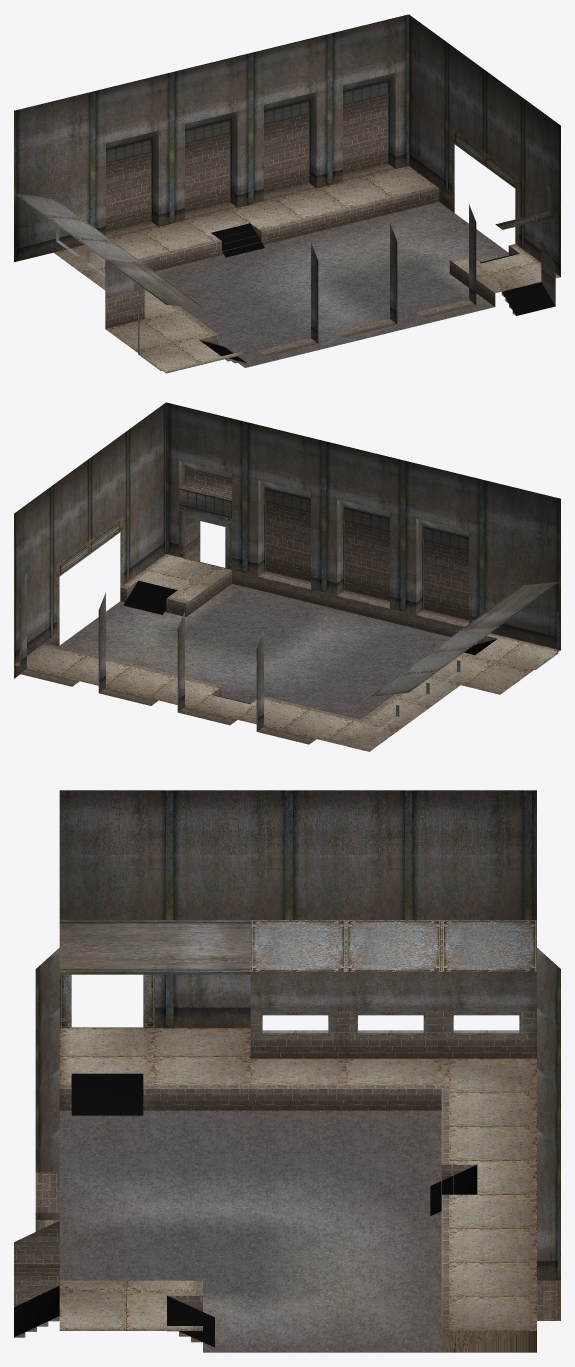
The model's file is M11Z2_SCUDHouse01_F.glb.
3 renders of one model, top to bottom at view 1: azimuth 30°, elevation 25°; view 2: azimuth 150°, elevation 25°; view 3: azimuth 270°, elevation 25°, orthographic. The views are drawn at different scales.
Parts seen in each view (by area): view 1: M11Z2_SCUDHOUSE01_F; view 2: M11Z2_SCUDHOUSE01_F; view 3: M11Z2_SCUDHOUSE01_F.
Boxes of the visible parts, x1=… form: M11Z2_SCUDHOUSE01_F: x1=14, y1=14, x2=560, y2=373; M11Z2_SCUDHOUSE01_F: x1=14, y1=402, x2=560, y2=751; M11Z2_SCUDHOUSE01_F: x1=14, y1=790, x2=560, y2=1352.
Size of the model in its own units: 30.1 by 12.01 by 22.91.
9 materials, 8 textured.
